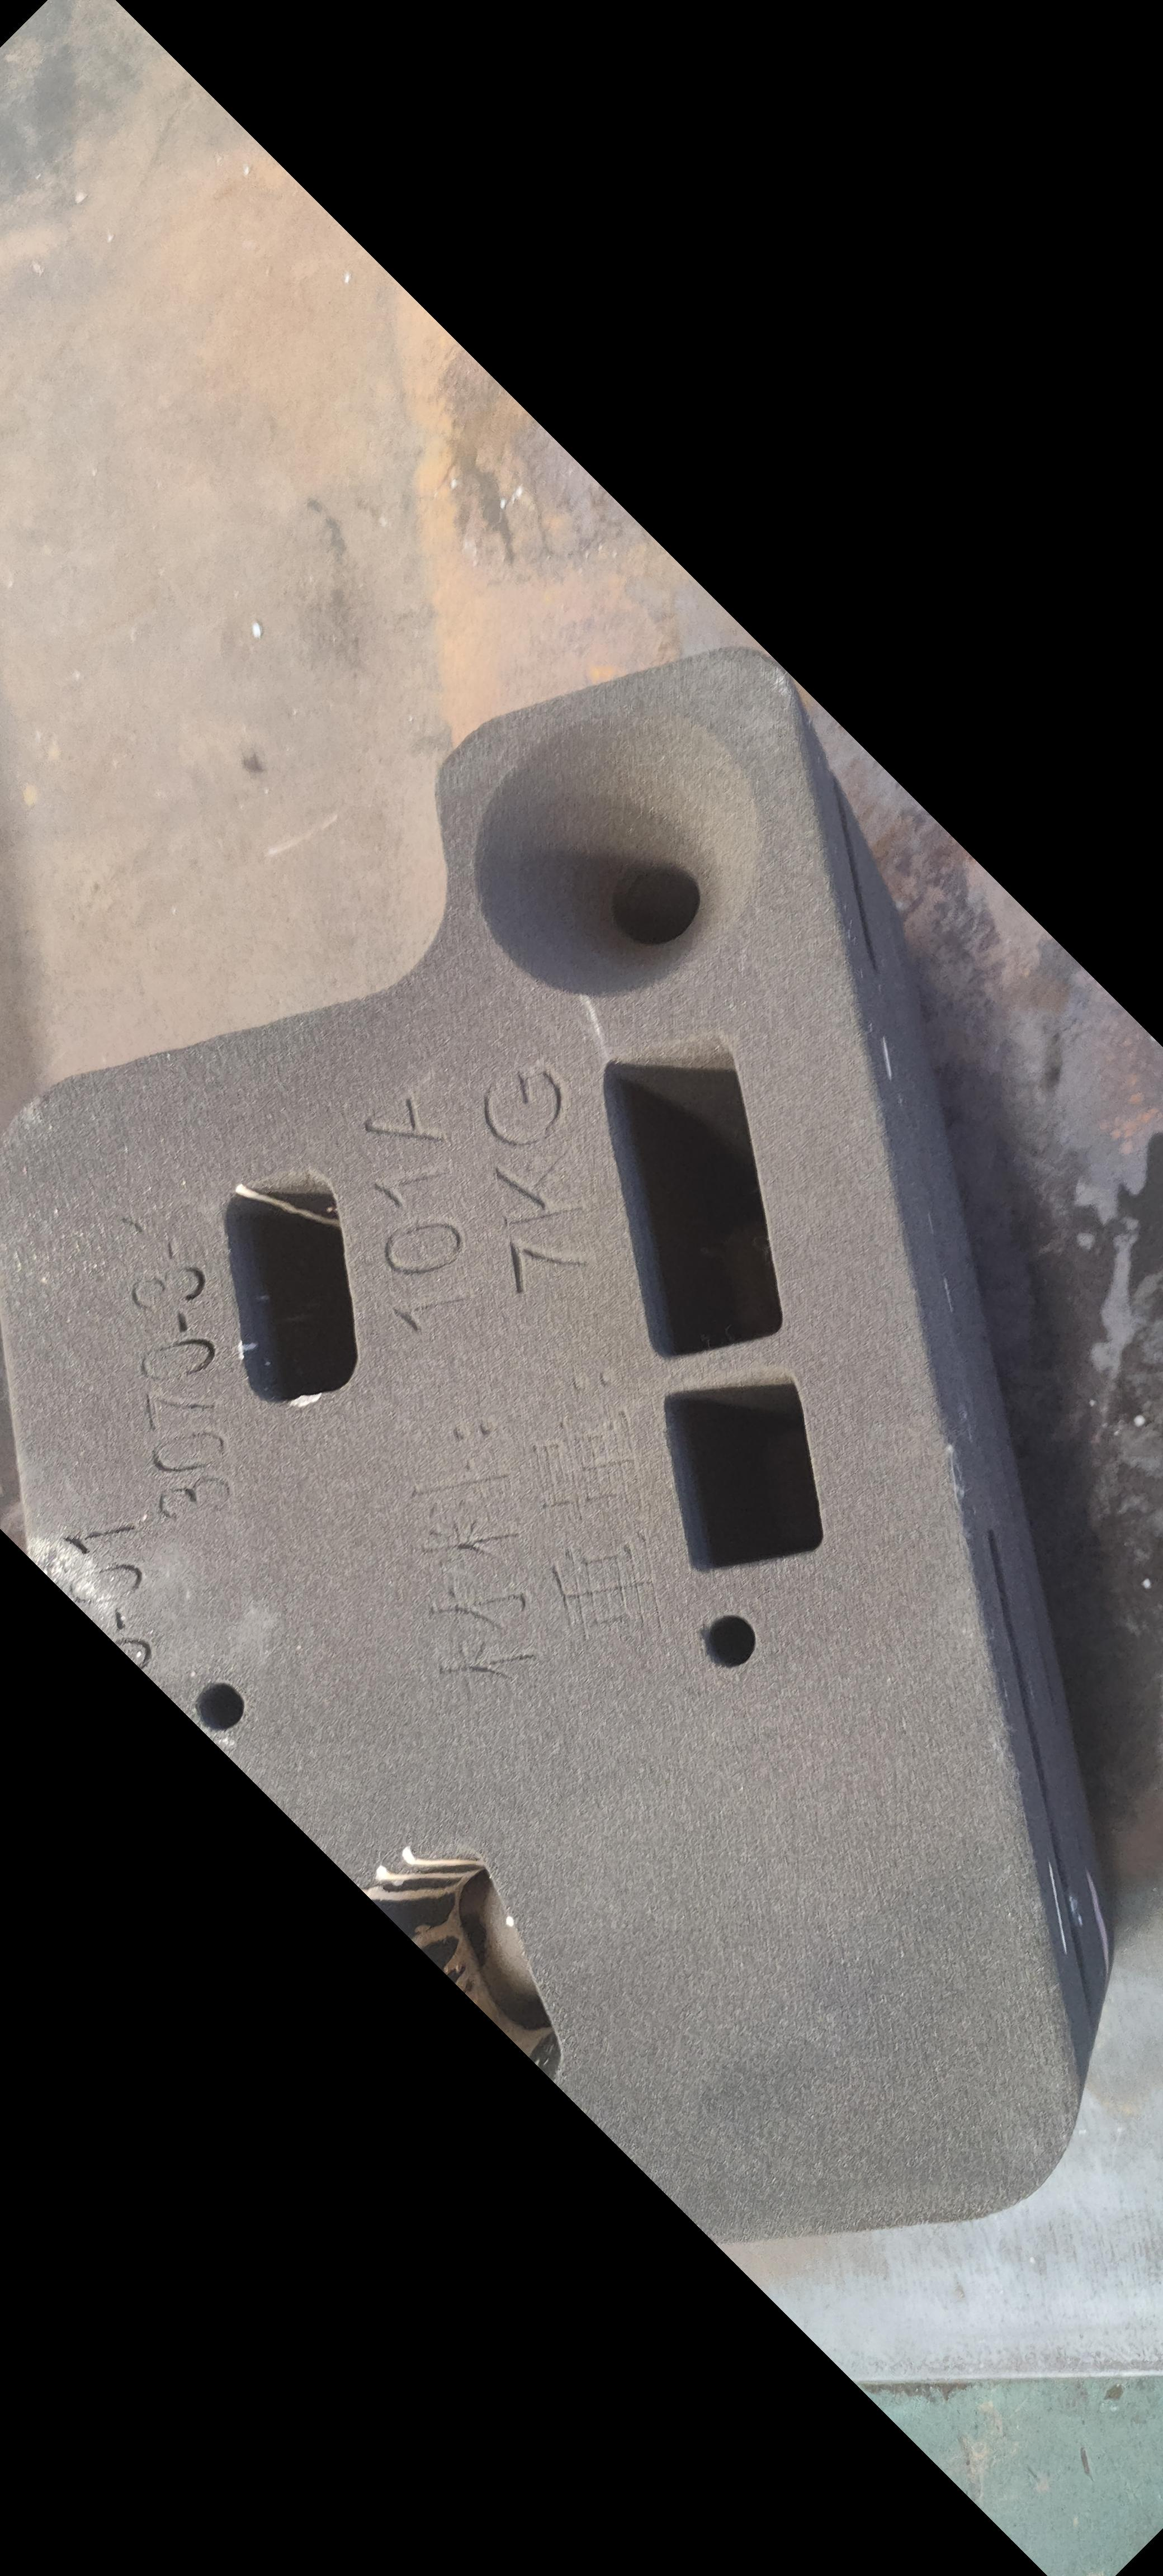pouring hole: (471, 708, 759, 996)
